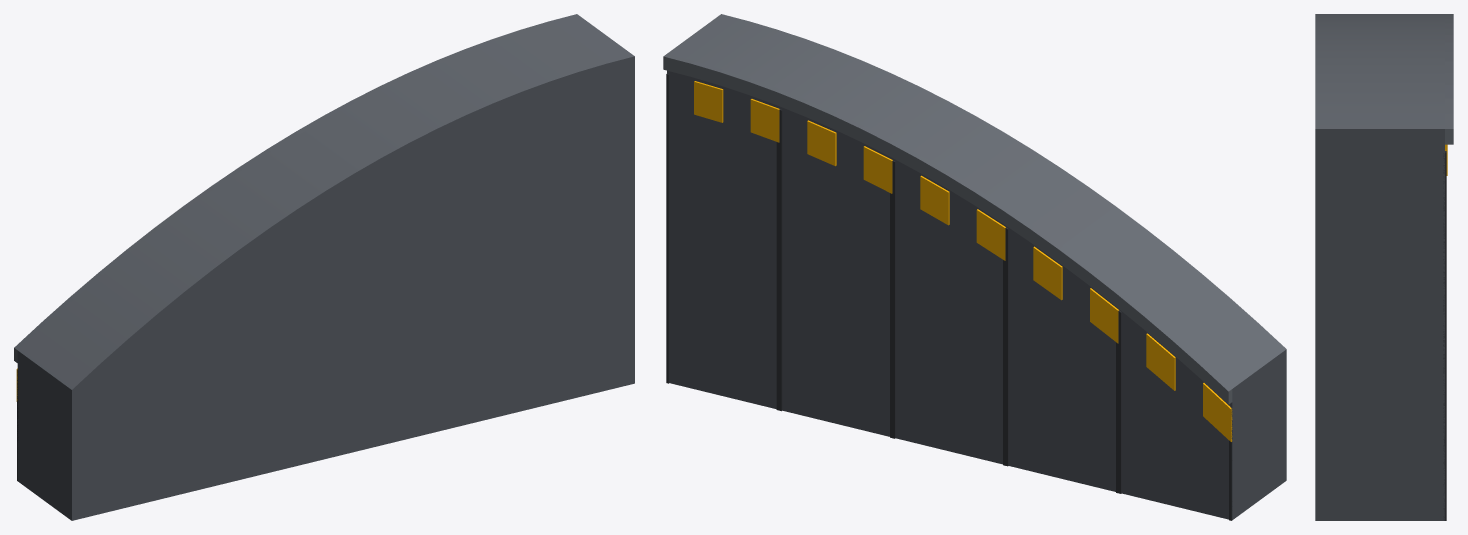
3 renders of one model, left to right at view 1: azimuth 30°, elevation 25°; view 2: azimuth 150°, elevation 25°; view 3: azimuth 270°, elevation 25°, orthographic. The views are drawn at different scales.
Parts seen in each view (by area): view 1: e3w; view 2: e3w; view 3: e3w.
Part boxes in pixels (bbox=[...]): e3w: bbox=[14, 14, 634, 520]; e3w: bbox=[663, 14, 1286, 520]; e3w: bbox=[1315, 14, 1453, 520].
Bounding box in the file's own units: 9 × 5 × 1.6.
